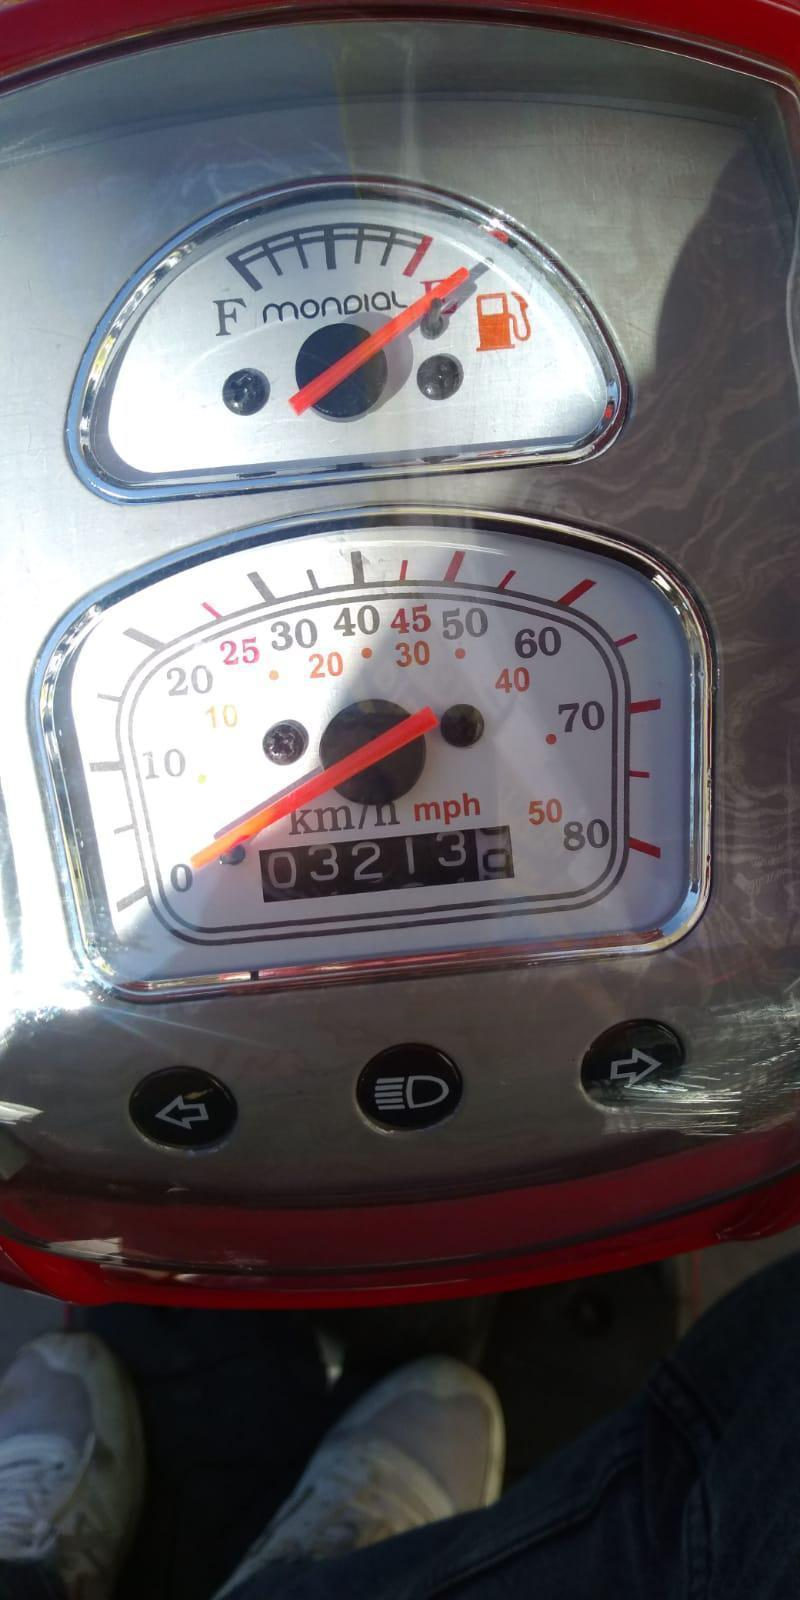0: (267, 850, 297, 890)
1: (403, 836, 416, 876)
2: (350, 840, 384, 880)
3: (306, 842, 340, 881), (435, 828, 466, 867)
9: (481, 847, 511, 882)
odometer: (257, 823, 515, 903)
